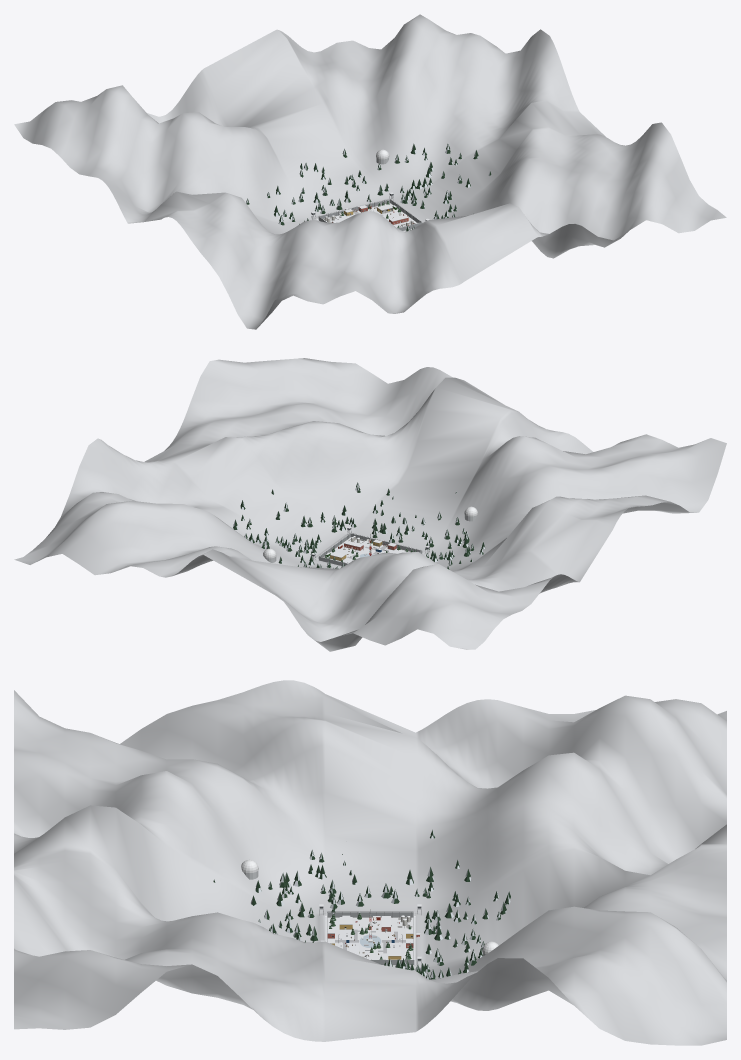
Rendered from snow.glb.
3 renders of one model, top to bottom at view 1: azimuth 30°, elevation 25°; view 2: azimuth 150°, elevation 25°; view 3: azimuth 270°, elevation 25°, orthographic. The views are drawn at different scales.
Visible parts, largest first — view 1: snow_drift, snow_fir; view 2: snow_drift, snow_fir, snow_snow; view 3: snow_drift, snow_fir, snow_snow, snow_snowcap, snow_grey.
Part boxes in pixels (left/top/right/bottom): snow_drift: left=14, top=14, right=726, bottom=329; snow_fir: left=246, top=143, right=491, bottom=231; snow_drift: left=14, top=358, right=726, bottom=651; snow_fir: left=233, top=482, right=485, bottom=569; snow_snow: left=318, top=537, right=422, bottom=562; snow_drift: left=14, top=680, right=726, bottom=1045; snow_fir: left=213, top=830, right=510, bottom=979; snow_snow: left=325, top=917, right=415, bottom=964; snow_snowcap: left=319, top=904, right=421, bottom=959; snow_grey: left=319, top=906, right=421, bottom=964.
Size of the model in its own units: 560 by 120 by 560.
Materials: 31 (7 with a texture image).
